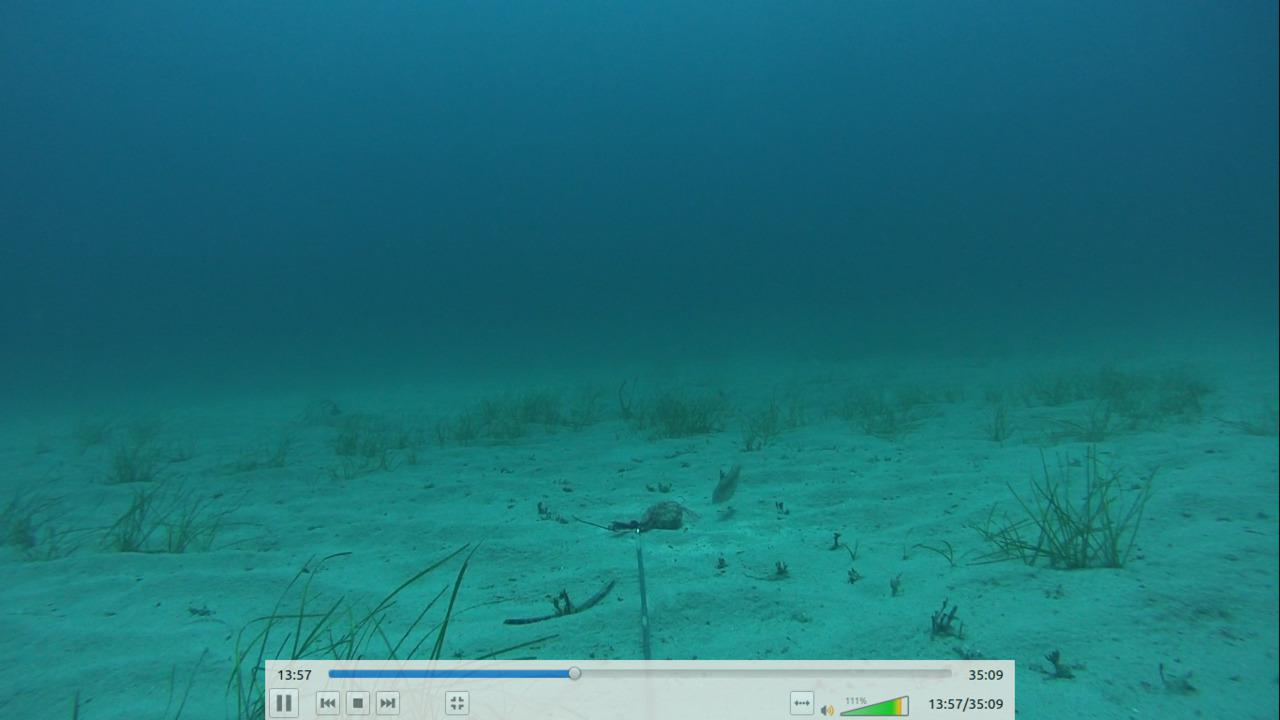raor: (697, 451, 751, 508)
